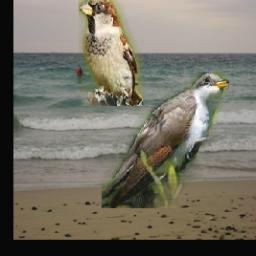Cuckoo: (103, 73, 230, 209)
Sparrow: (80, 0, 144, 106)
